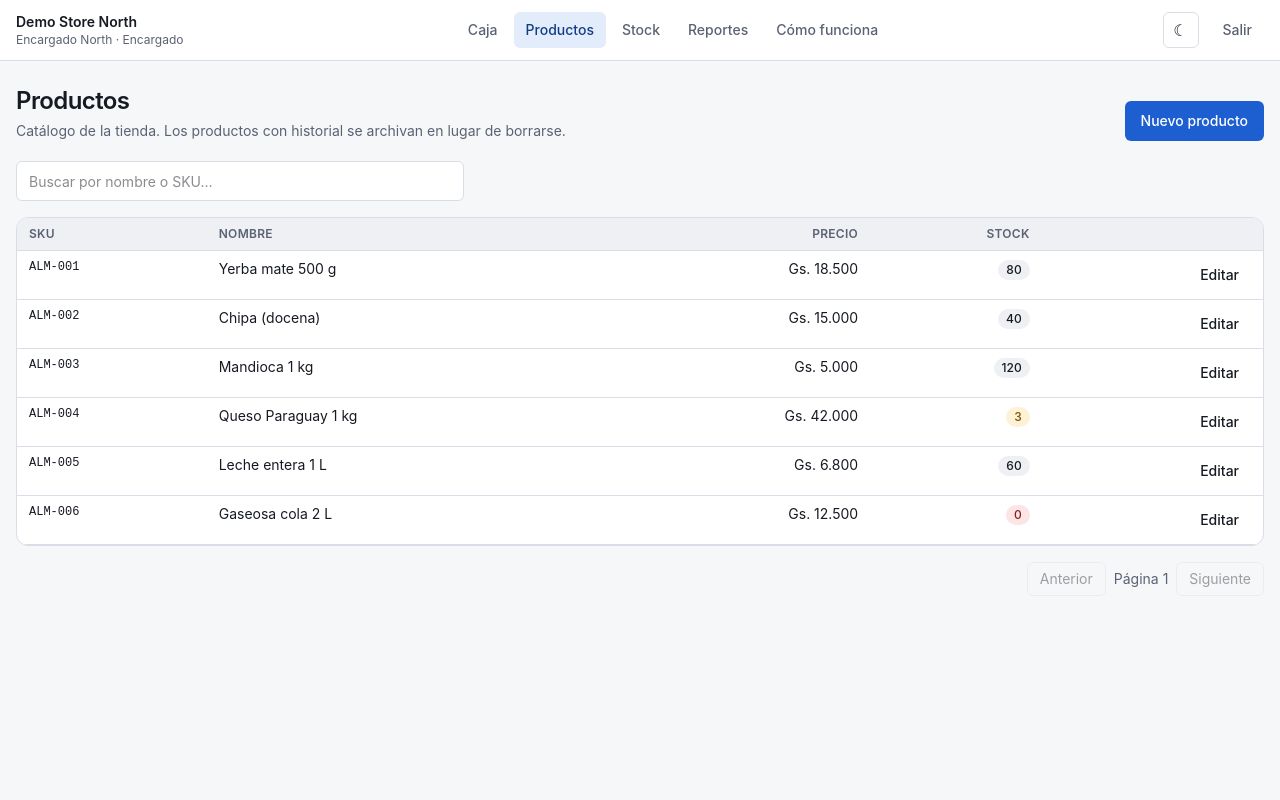
Test: products page › hides delete from managers and reports server-side 403s
Expected: the text "Yerba mate 500 g" is shown, top-left (207, 250), bottom-right (622, 300)
Click the button with aria-label "Editar Mandioca 1 kg" at [1220, 373], box top-left (1188, 357), bottom-right (1251, 389)
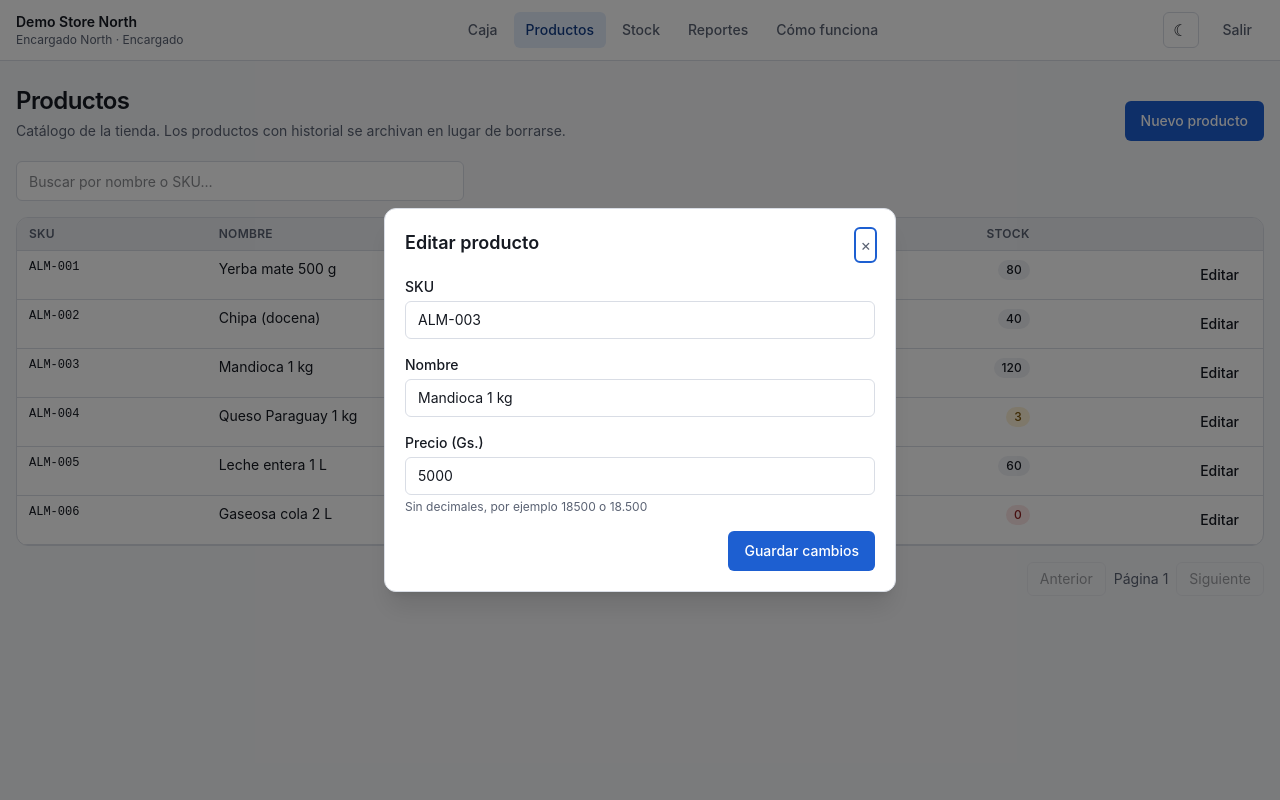
Click the button "Guardar cambios" at [802, 551], box top-left (728, 531), bottom-right (875, 571)
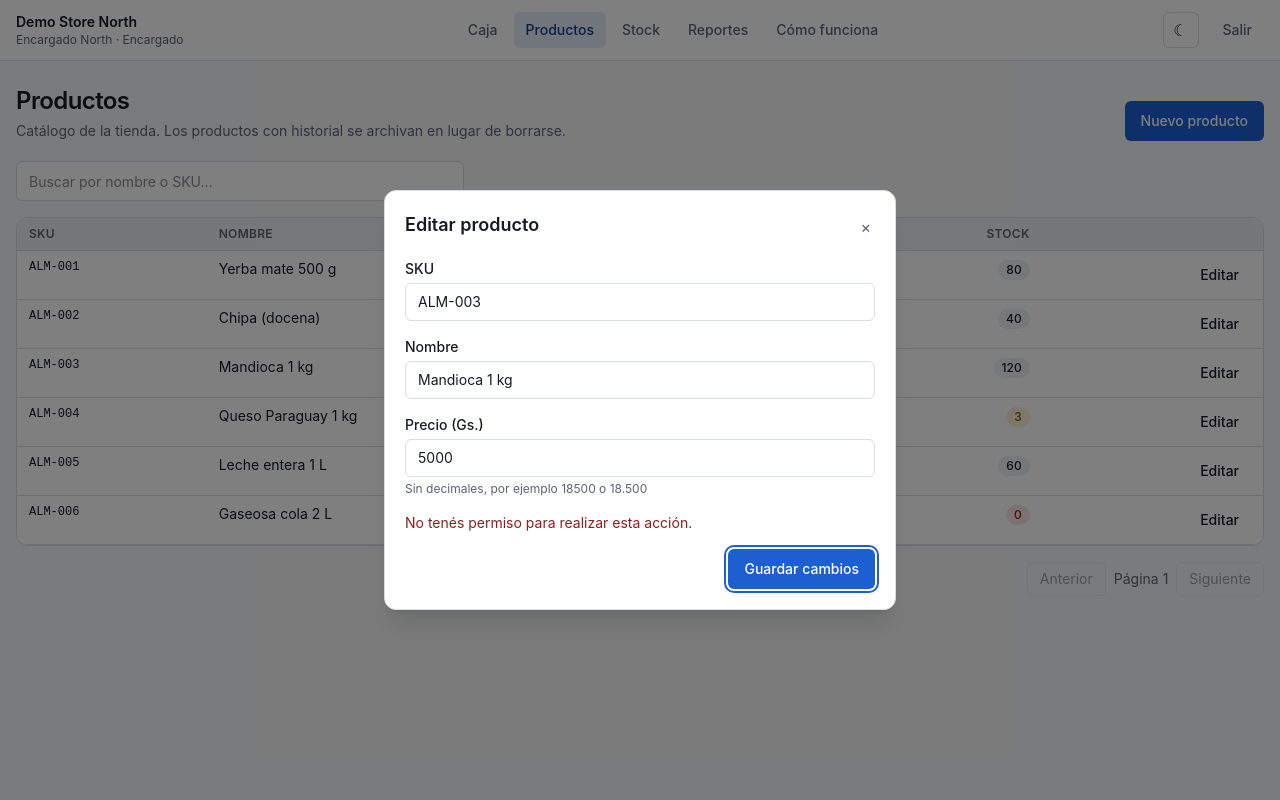
Now the text "No tenés permiso para realizar esta acción." is shown, box top-left (405, 514), bottom-right (692, 531)
